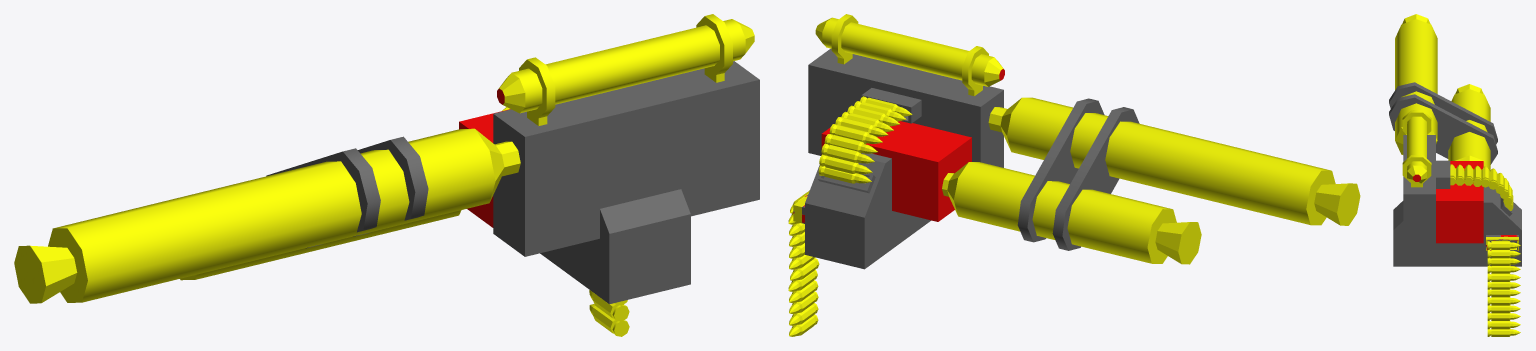
Rendered from Waffe_4.FBX.
3 renders of one model, left to right at view 1: azimuth 30°, elevation 25°; view 2: azimuth 150°, elevation 25°; view 3: azimuth 270°, elevation 25°, orthographic. The views are drawn at different scales.
Parts seen in each view (by area): view 1: Cylinder037; view 2: Cylinder037; view 3: Cylinder037.
Boxes of the visible parts, <box> form: Cylinder037: <box>14,14,759,336</box>; Cylinder037: <box>788,14,1360,336</box>; Cylinder037: <box>1389,14,1521,336</box>.
Size of the model in its own units: 107 by 51.31 by 33.09.
Materials: 1 (1 with a texture image).
